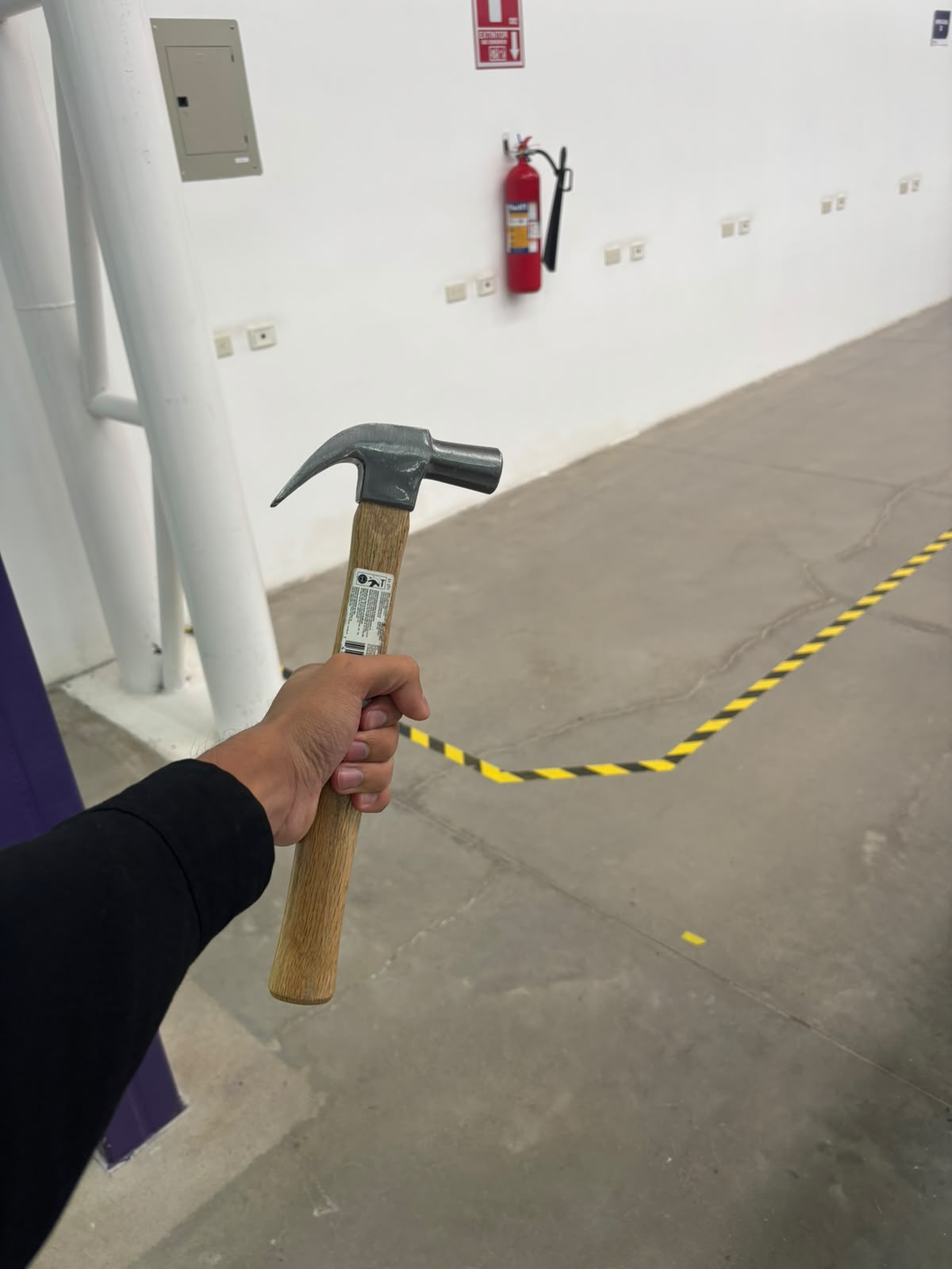hammer: (217, 393, 529, 1010)
